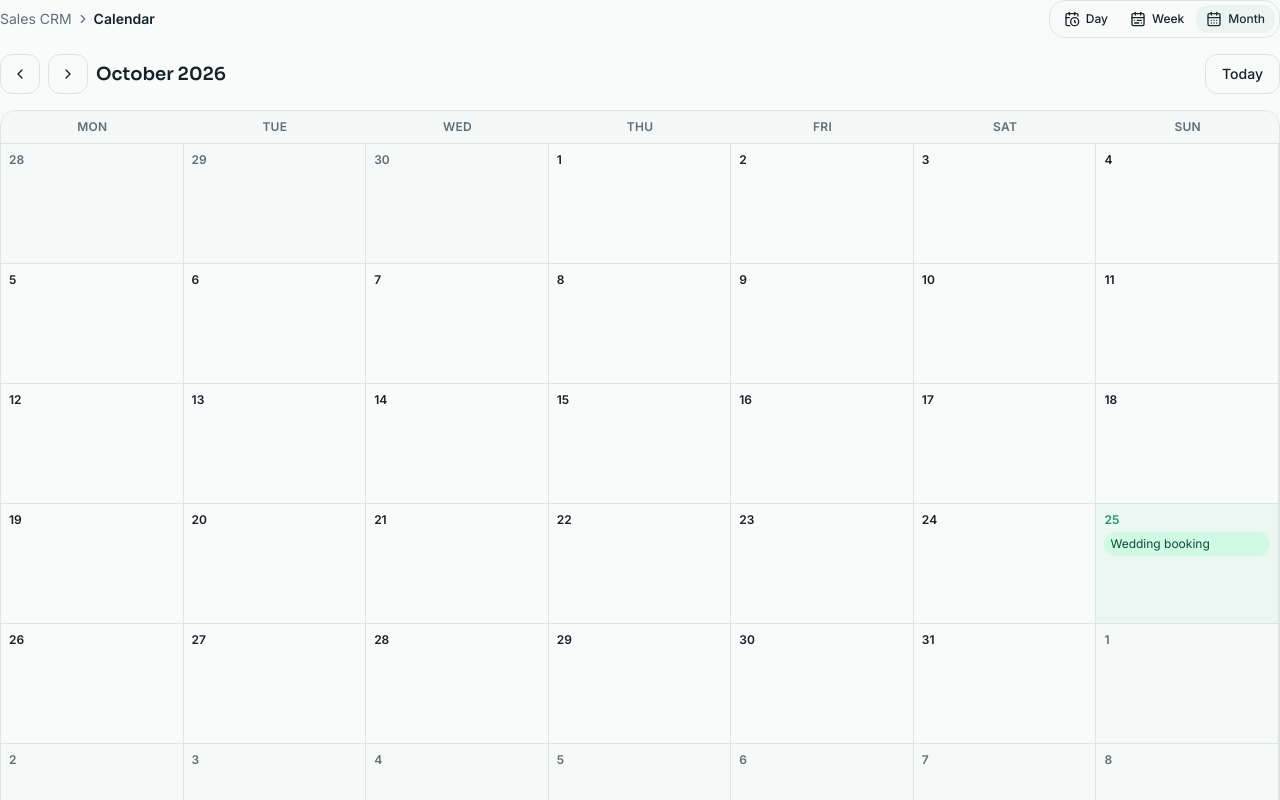
Test: CRM modules › opens the booked view sidebar from a calendar booking
Click the button "Wedding booking" at (1187,544), box [1104, 532, 1270, 556]
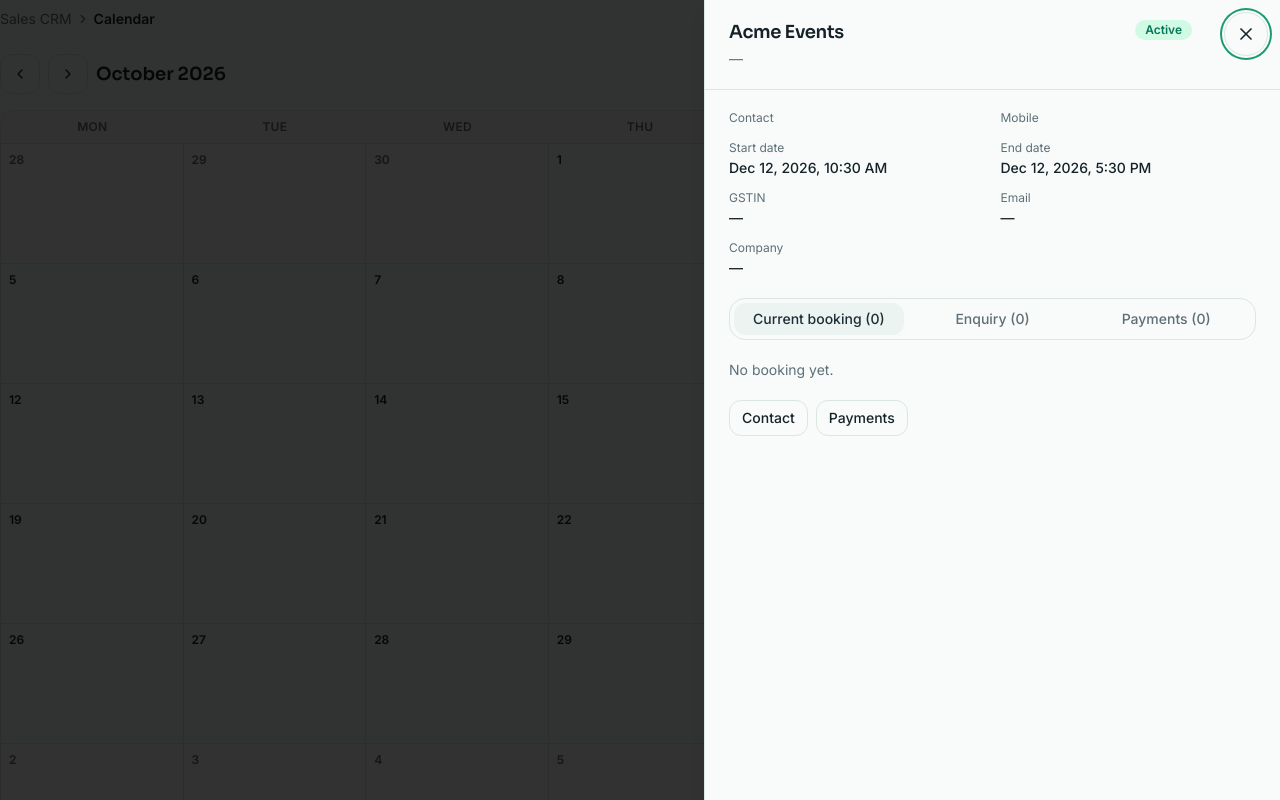
Check: the heading "Acme Events" is shown, box [729, 20, 844, 45]
Check: the tab "Current booking (0)" is shown, box [734, 303, 904, 335]
Check: the tab "Enquiry (0)" is shown, box [908, 303, 1077, 335]
